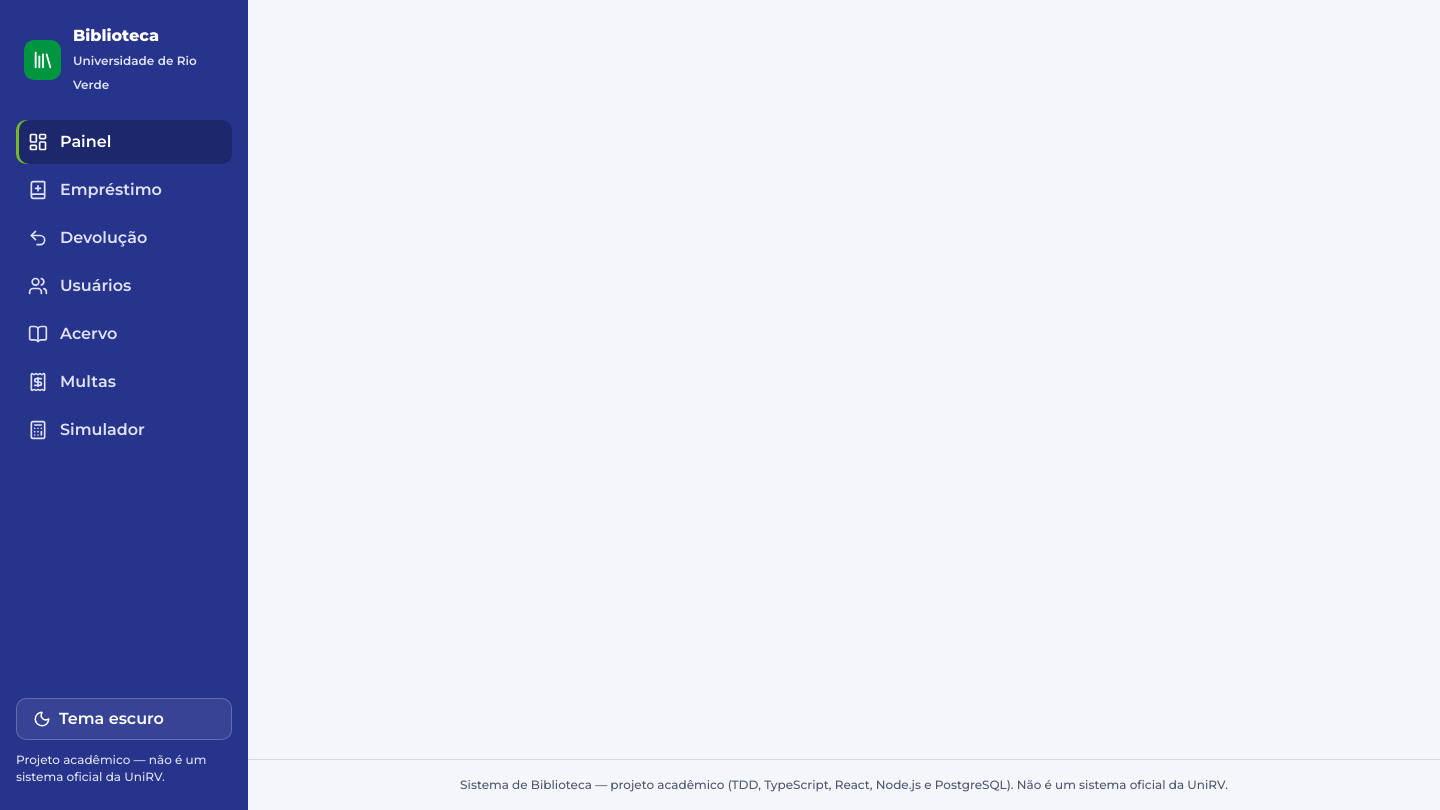
Test case: UI — páginas › UI26 — alternar o tema aplica e lembra a escolha
What coordinates should you click on to do the following:
click the button "Tema escuro"
I would click on:
 (124, 719)
Its box is [16,698,232,740].
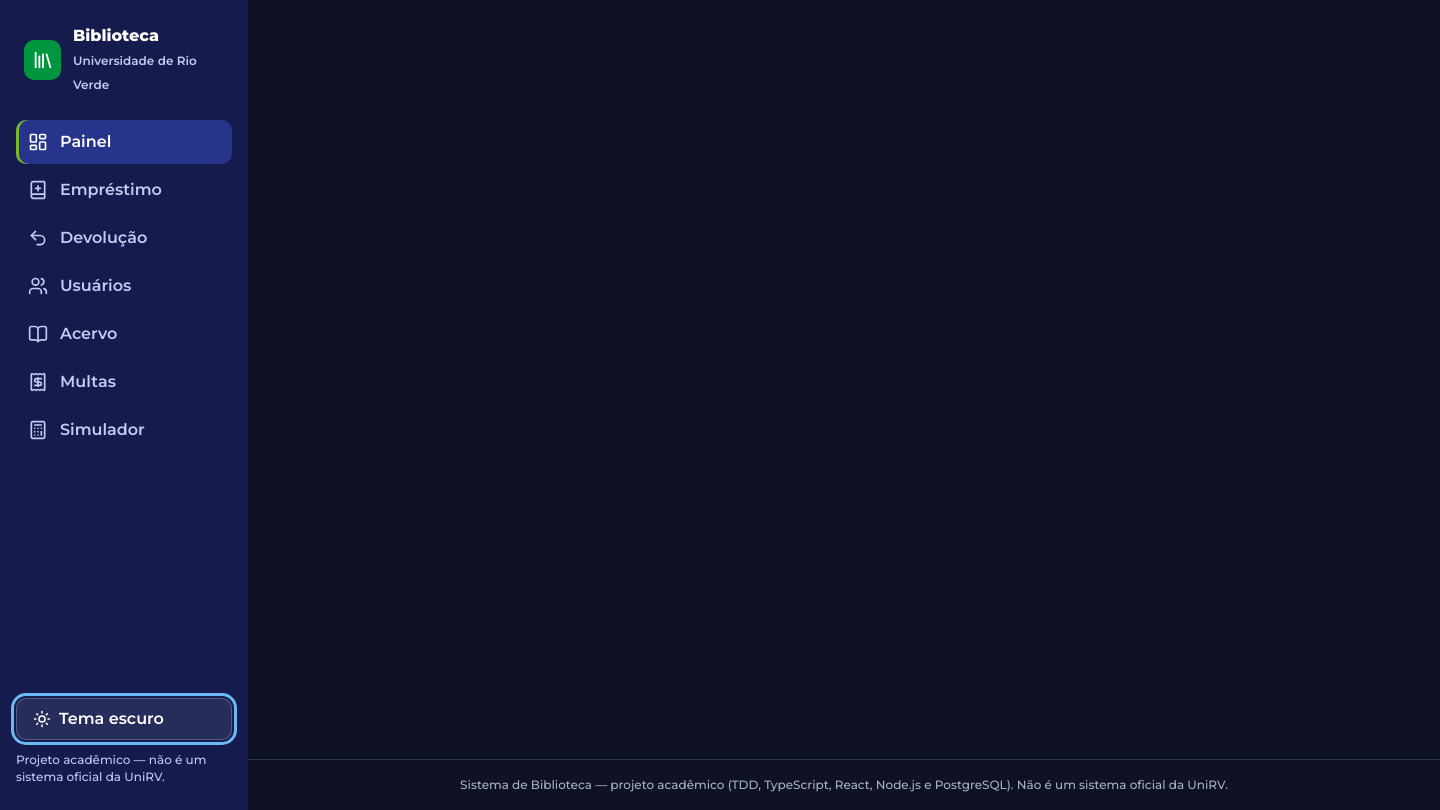
expect the button "Tema escuro" is pressed: met, box [16,698,232,740]
